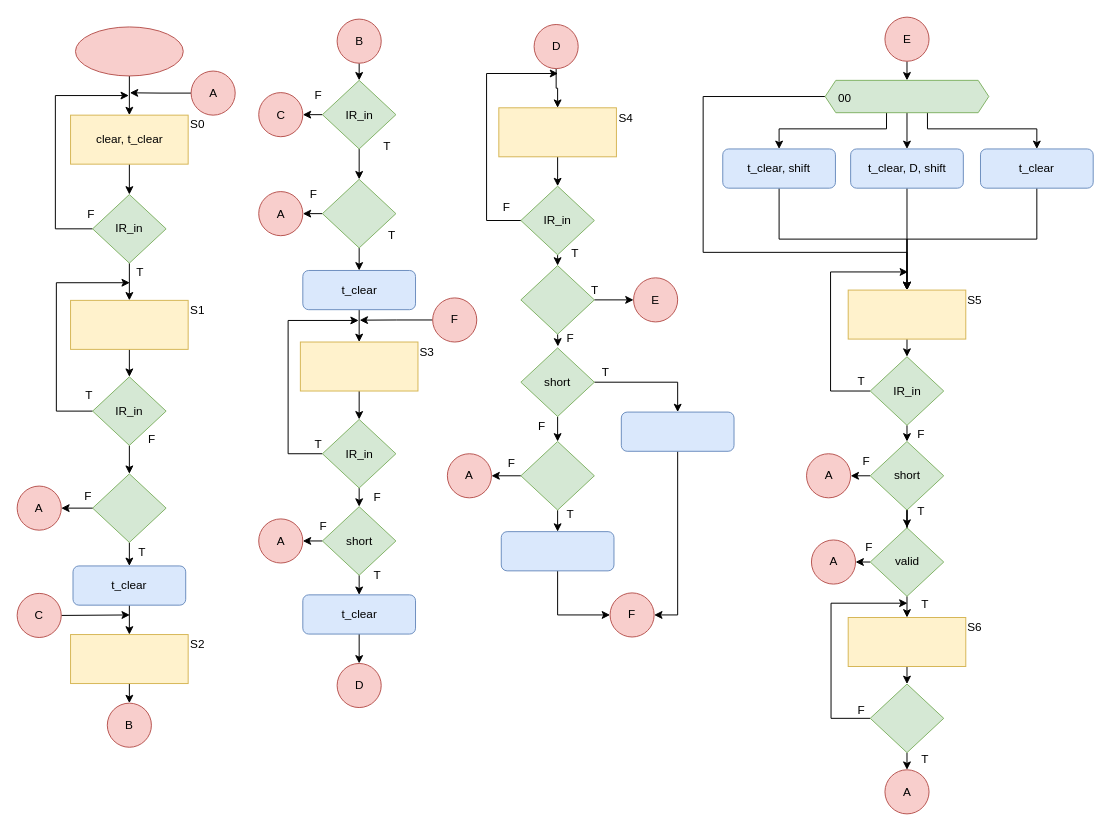
Some shapes in this 1110 by 831 pixel diagram are drawn without their labels. Here are the shapes that lost their labels. From the top down, the box of each, then its label:
(74, 26, 183, 76): nrst
(824, 79, 989, 113): short, long 10 01 00
(321, 178, 396, 248): burst_short
(520, 265, 594, 334): last
(620, 411, 734, 451): t_clear, shift, cnt
(520, 441, 594, 510): long
(92, 473, 166, 542): burst_long
(500, 531, 614, 571): t_clear, D, shift, cnt
(847, 617, 966, 666): available, t_clear
(869, 683, 944, 753): ready
